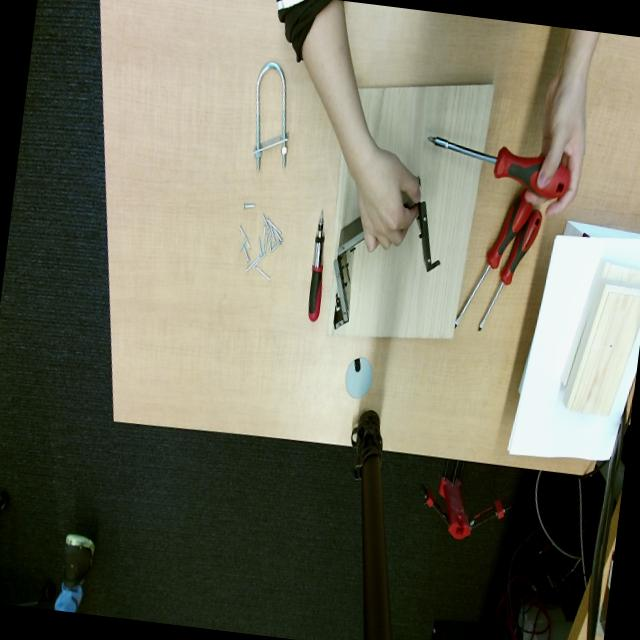screwdriver: (454, 190, 533, 325), (428, 135, 570, 198), (478, 210, 542, 331), (308, 210, 324, 321)
